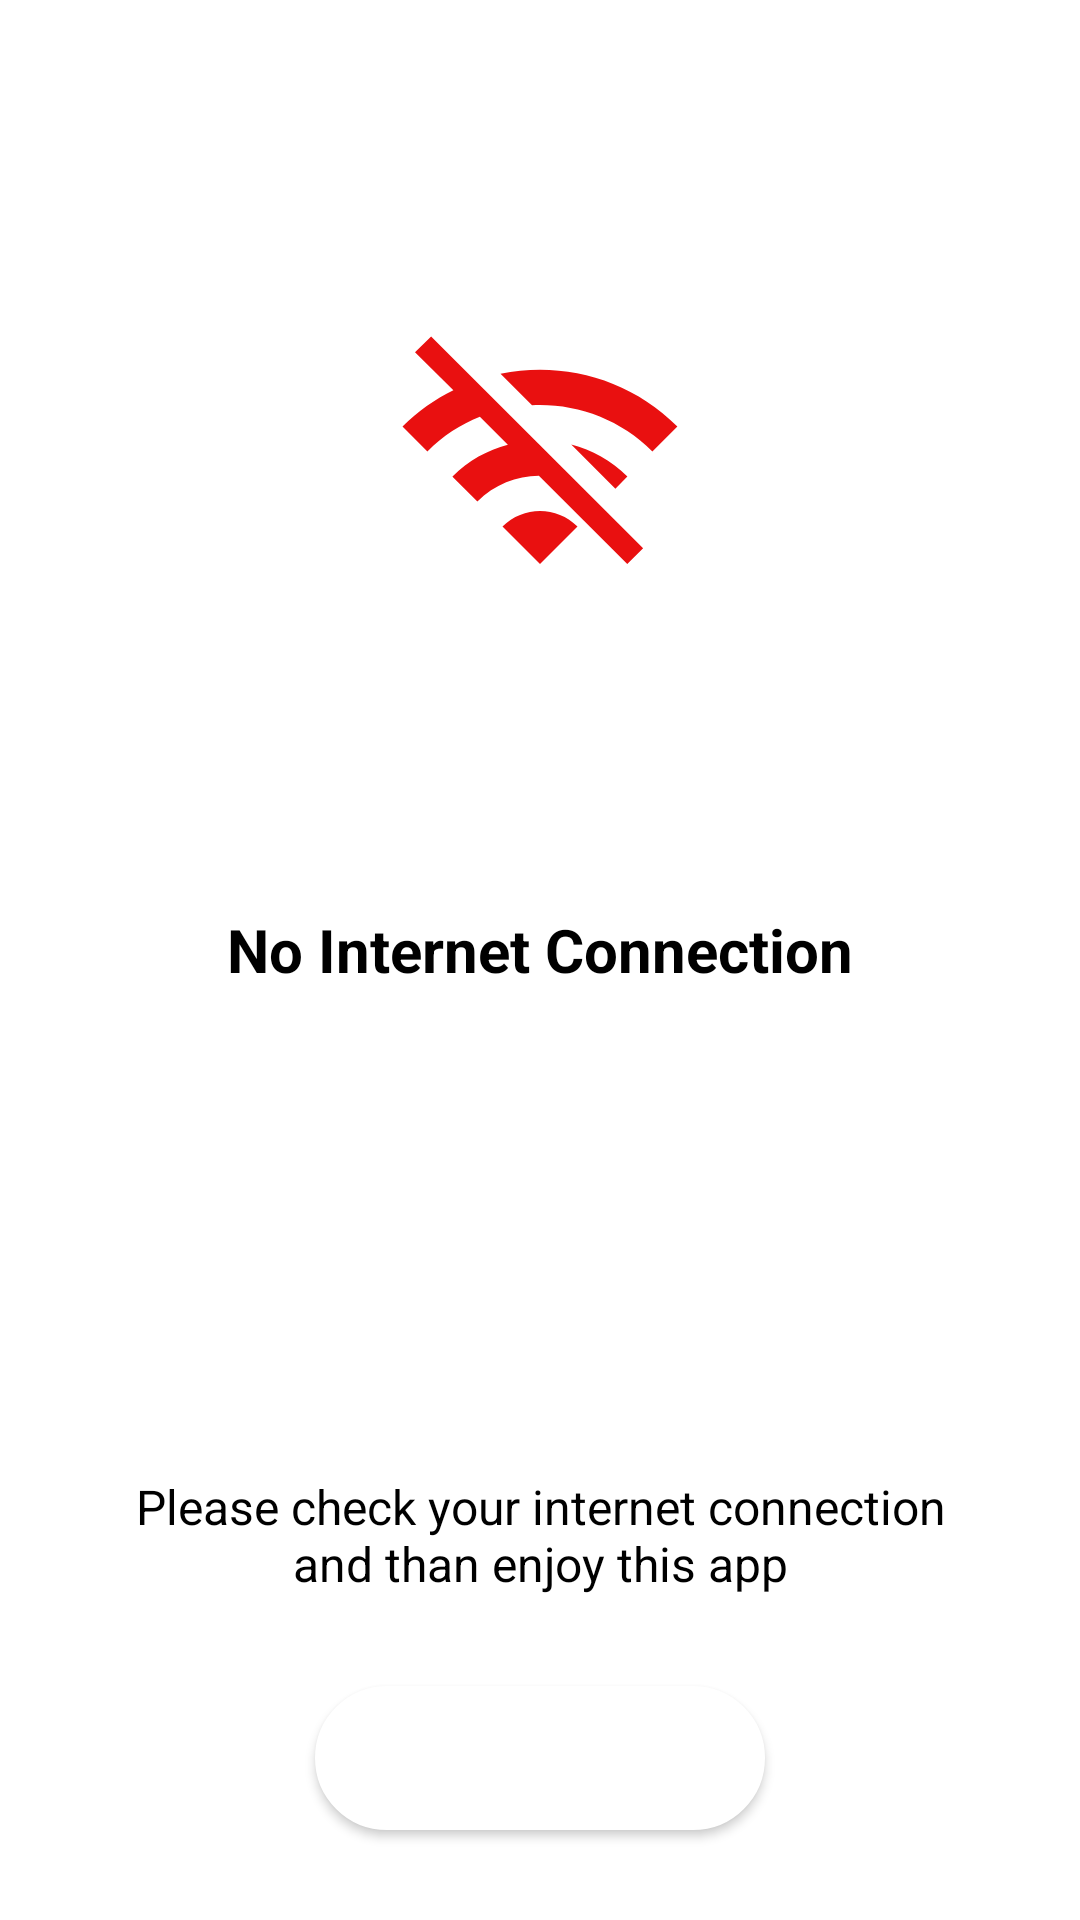

Icons on this 1080 × 1920 Android screen, each with its box as (x1, y1, x2, y2):
wifi off: (402, 336, 678, 564)
